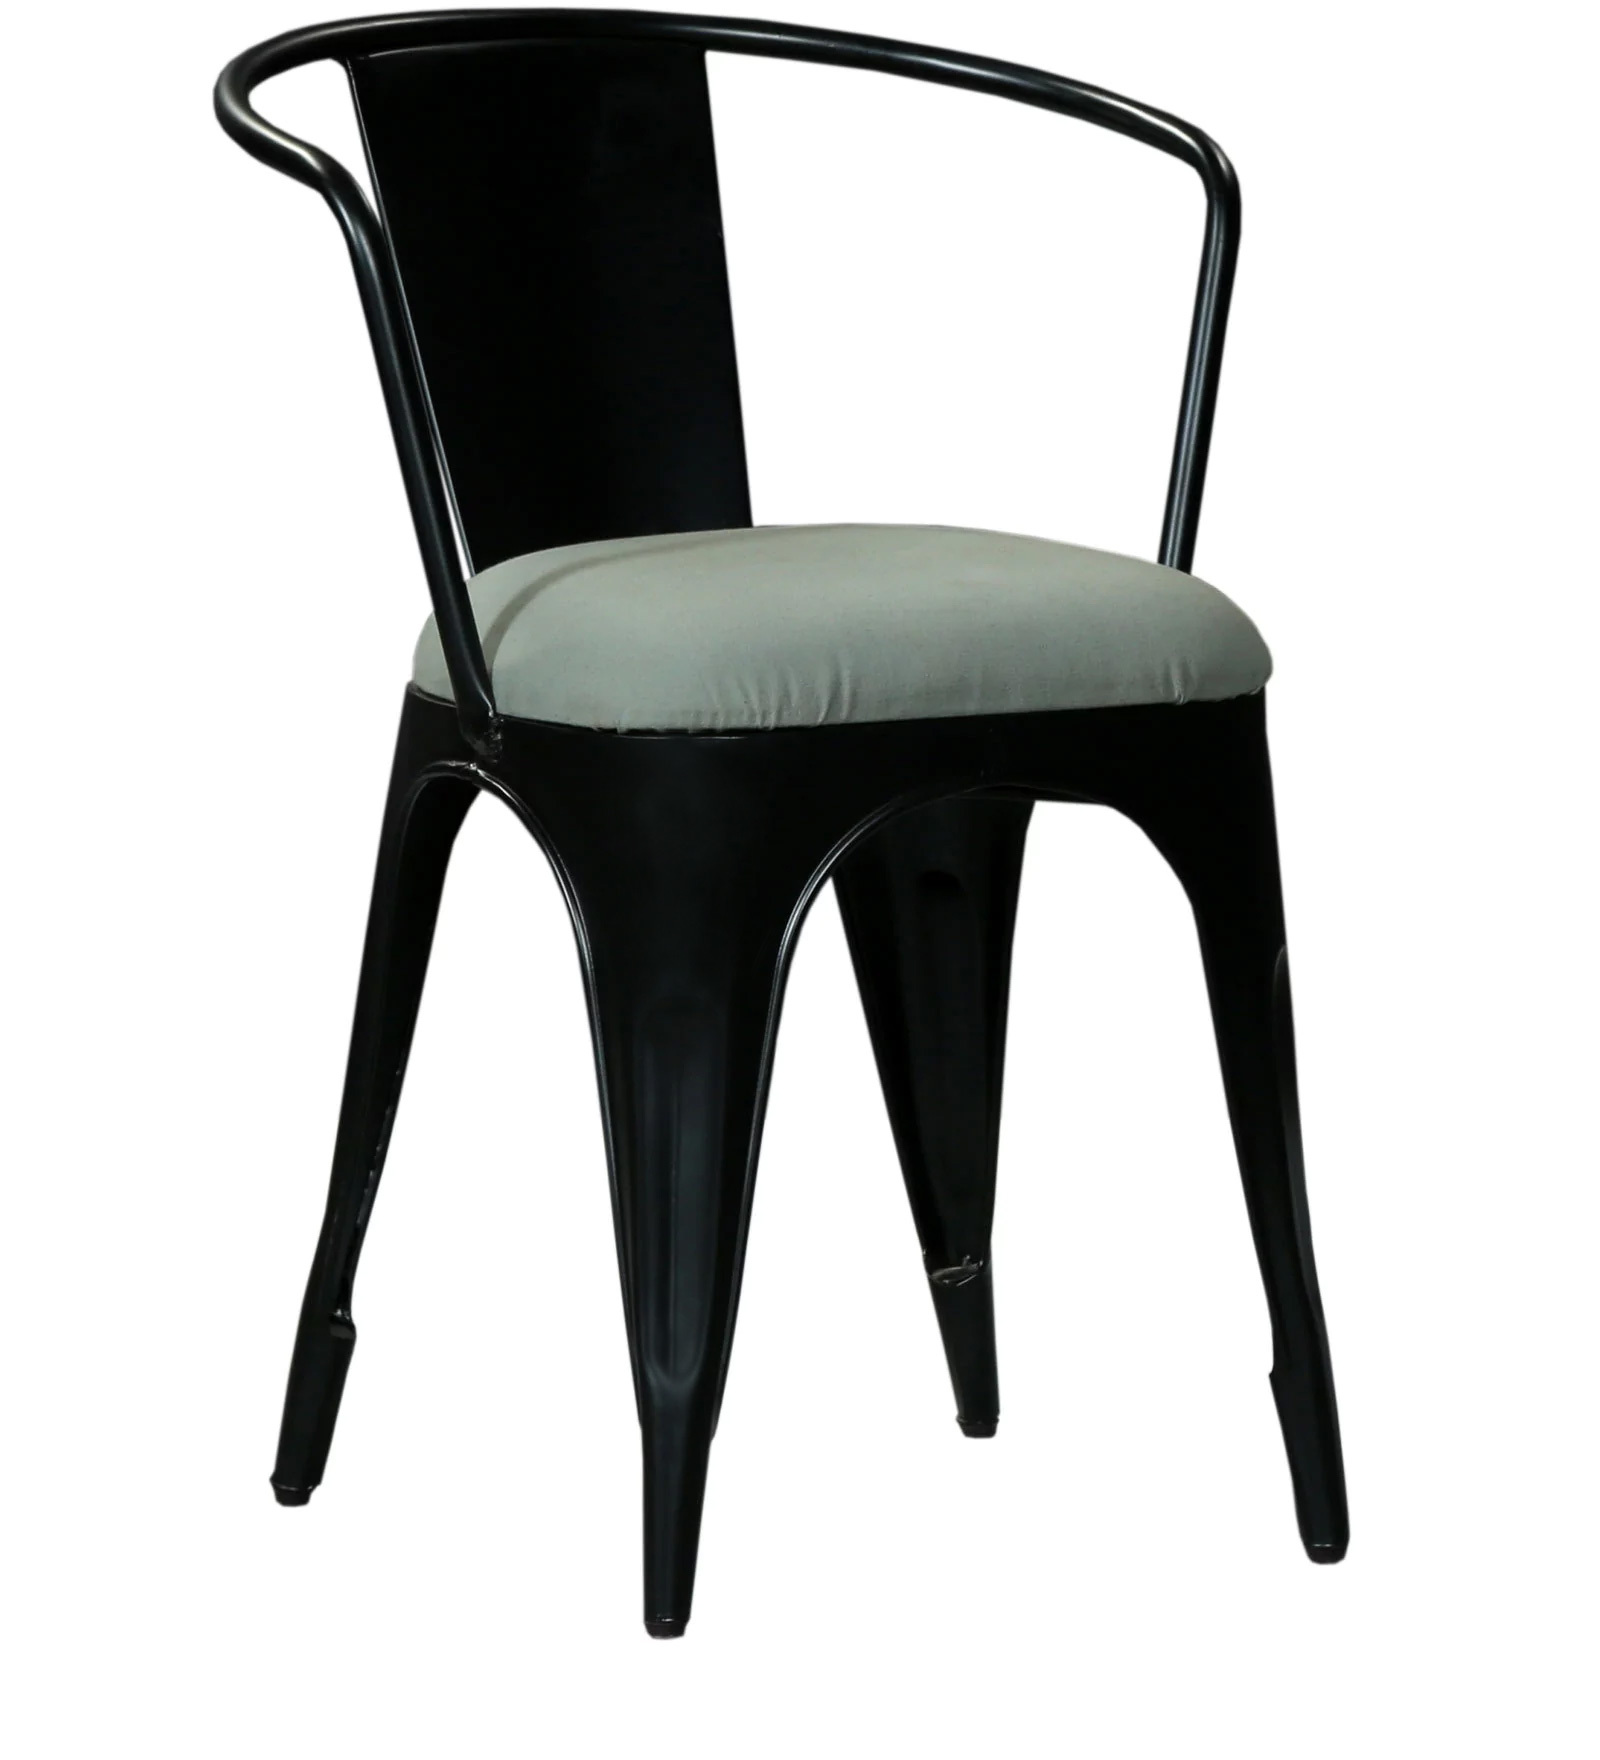Danlou Metal Chair with Cushion in Black Colour by Bohemiana: (92, 9, 1444, 1647)
